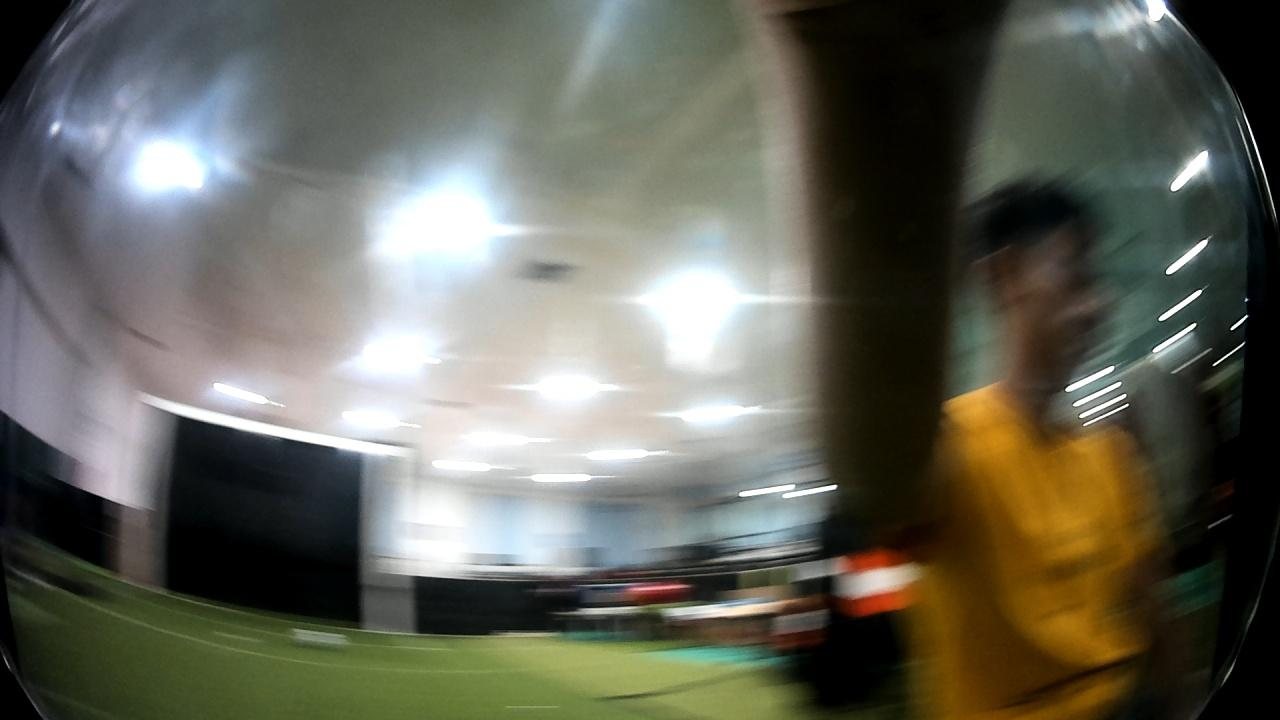ball: (285, 621, 352, 656)
